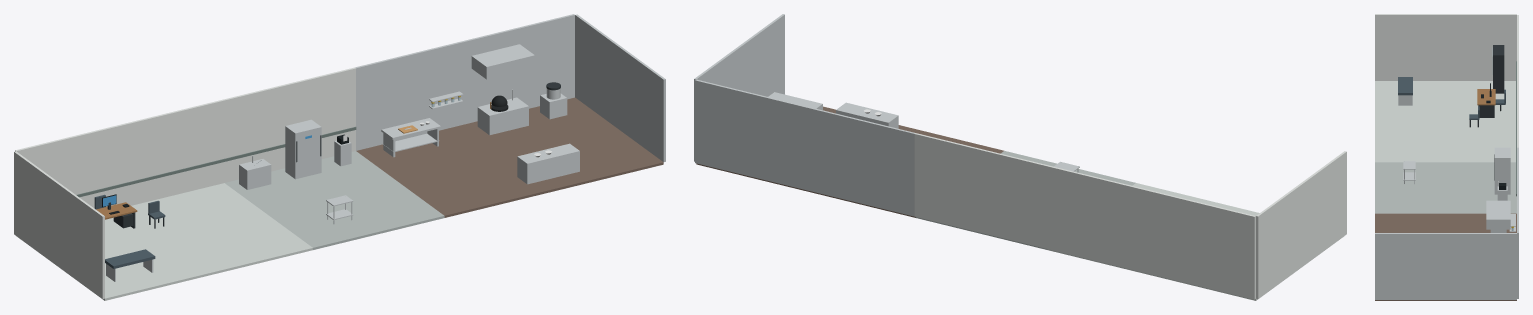
Rendered from clinic_kitchen_scene.glb.
The picture shows the model from 3 angles, left to right: view 1: azimuth 30°, elevation 25°; view 2: azimuth 150°, elevation 25°; view 3: azimuth 270°, elevation 25°; orthographic projection. The views are drawn at different scales.
Parts seen in each view (by area): view 1: Floor_Kitchen, object 6, Floor_Clinic, object 4, Floor_Prep, object 5, object 8, object 9, Prop_Fridge, Prop_ServicePass, Prop_WokStation, Prop_ExhaustHood (+8 smaller); view 2: object 6, object 4, object 5, object 8, object 9, Floor_Clinic, Floor_Kitchen, Prop_ServicePass, Floor_Prep; view 3: Floor_Clinic, object 9, object 8, Floor_Prep, Floor_Kitchen, Prop_ExhaustHood, Prop_Fridge, Prop_MedicineCabinet, Prop_DoctorDesk, Prop_ExamBed, object 6, Prop_UtilityCart (+5 smaller).
Part boxes in pixels (bbox=[...]): Floor_Kitchen: bbox=[356, 97, 663, 217]; object 6: bbox=[355, 14, 574, 150]; Floor_Clinic: bbox=[19, 183, 312, 300]; object 4: bbox=[15, 99, 224, 208]; Floor_Prep: bbox=[225, 151, 444, 249]; object 5: bbox=[223, 67, 355, 182]; object 8: bbox=[14, 151, 104, 298]; object 9: bbox=[575, 14, 665, 161]; Prop_Fridge: bbox=[285, 119, 321, 179]; Prop_ServicePass: bbox=[517, 143, 579, 184]; Prop_WokStation: bbox=[477, 89, 528, 135]; Prop_ExhaustHood: bbox=[471, 44, 534, 79]; object 6: bbox=[695, 79, 915, 216]; object 4: bbox=[1046, 165, 1255, 299]; object 5: bbox=[914, 133, 1046, 248]; object 8: bbox=[1256, 151, 1346, 298]; object 9: bbox=[694, 14, 784, 161]; Floor_Clinic: bbox=[1047, 183, 1339, 300]; Floor_Kitchen: bbox=[696, 106, 1003, 217]; Prop_ServicePass: bbox=[836, 102, 898, 128]; Floor_Prep: bbox=[915, 151, 1135, 249]; Floor_Clinic: bbox=[1375, 81, 1515, 162]; object 9: bbox=[1375, 233, 1516, 299]; object 8: bbox=[1375, 14, 1516, 80]; Floor_Prep: bbox=[1375, 162, 1516, 213]; Floor_Kitchen: bbox=[1375, 213, 1516, 300]; Prop_ExhaustHood: bbox=[1486, 200, 1510, 229]; Prop_Fridge: bbox=[1494, 147, 1510, 194]; Prop_MedicineCabinet: bbox=[1492, 45, 1504, 93]; Prop_DoctorDesk: bbox=[1477, 83, 1495, 117]; Prop_ExamBed: bbox=[1398, 77, 1412, 105]; object 6: bbox=[1517, 147, 1518, 298]; Prop_UtilityCart: bbox=[1403, 161, 1415, 183].
Bounding box in the file's own units: 25.7 × 3.7 × 7.1.
